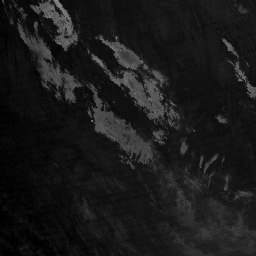Target: (89, 118, 96, 124)
